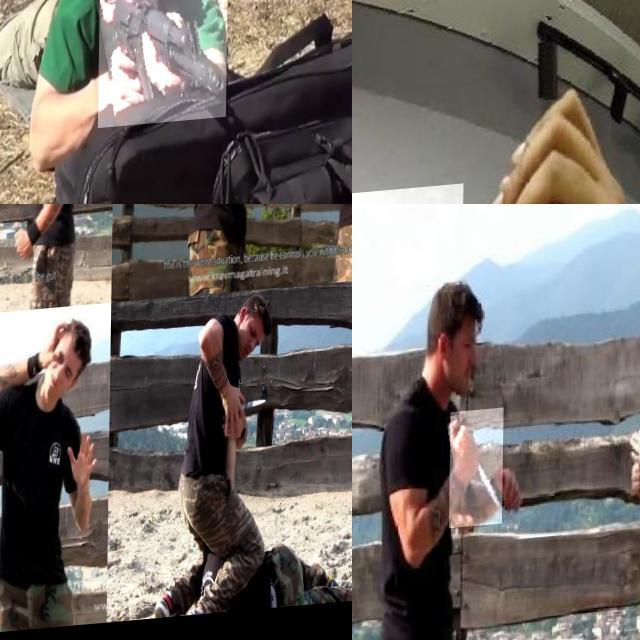-: (450, 412, 504, 532), (262, 204, 306, 235), (232, 398, 271, 426), (0, 204, 22, 239), (0, 428, 21, 464)
gun-knife-thesis - v11 Yolov5 augmented: (99, 0, 228, 131)
